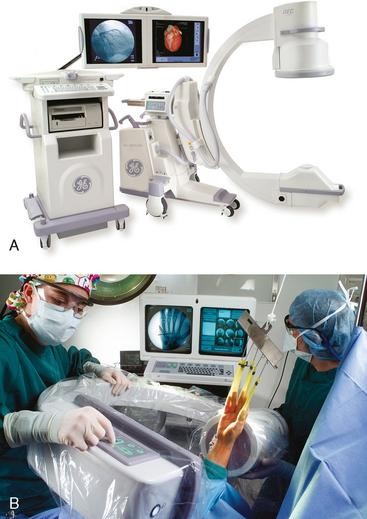C_arm: (142, 1, 349, 231)
